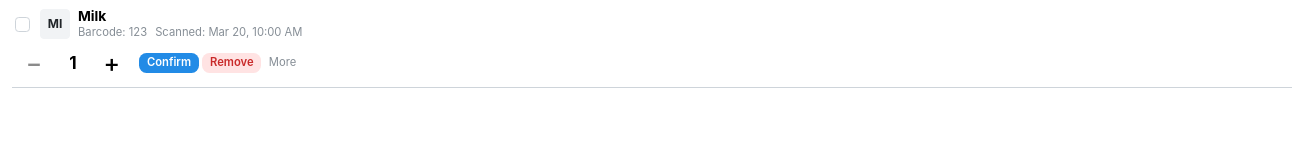
Test: ScanEntryCard stock-out review › keeps the missing-inventory note behind More and still hides the expiration control
Check: the text "No inventory item is available for this product." is not shown
Click the button "More" at (283, 63), box left=267, top=41, right=298, bottom=85
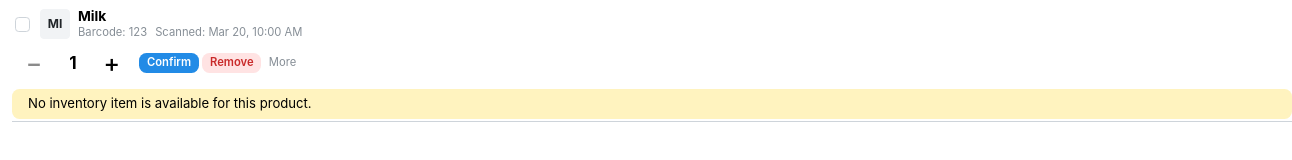
Check: the text "No inventory item is available for this product." is shown, box left=28, top=96, right=312, bottom=112
